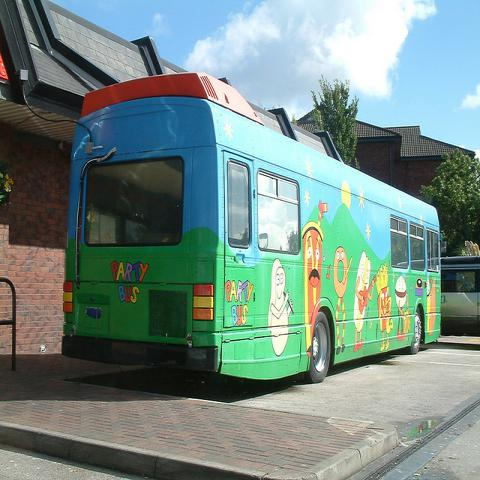bus: (64, 70, 445, 381), (440, 256, 479, 339)
car: (440, 256, 480, 335)
